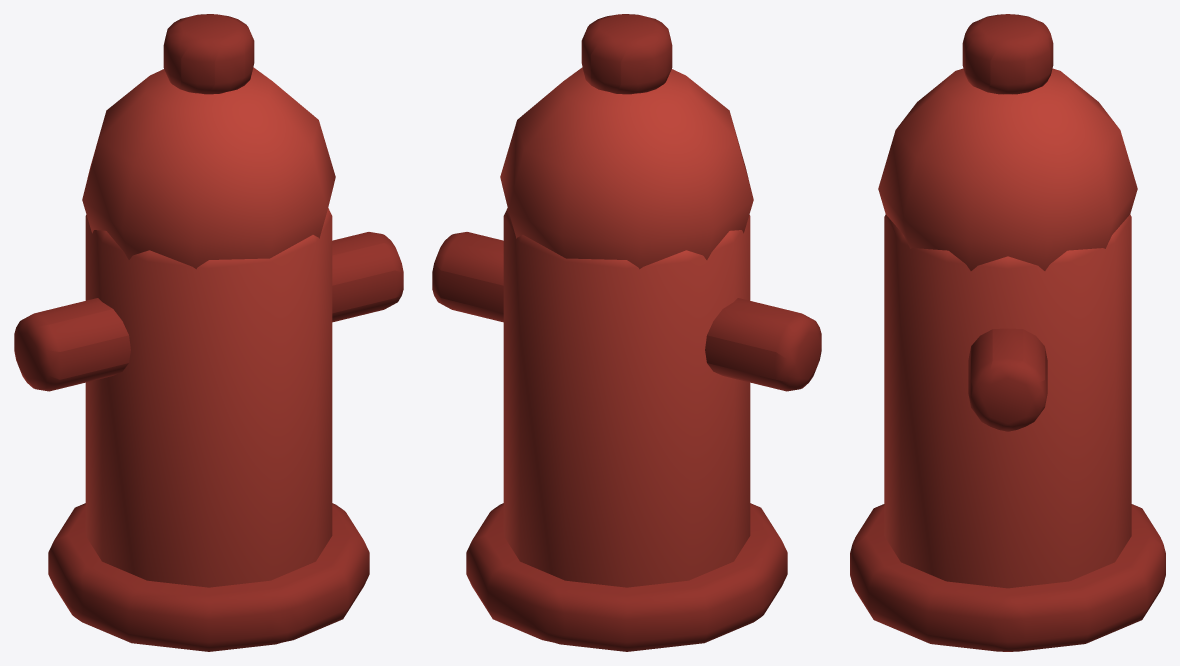
File: prop_hydrant.glb
The picture shows the model from 3 angles, left to right: view 1: azimuth 30°, elevation 25°; view 2: azimuth 150°, elevation 25°; view 3: azimuth 270°, elevation 25°; orthographic projection.
Parts seen in each view (by area): view 1: prop_hydrant; view 2: prop_hydrant; view 3: prop_hydrant.
Boxes of the visible parts, x1,y1,x2,y2 form: prop_hydrant: (14, 14, 403, 651); prop_hydrant: (432, 14, 821, 651); prop_hydrant: (850, 14, 1165, 651).
Size of the model in its own units: 0.68 by 1.01 by 0.5109.
